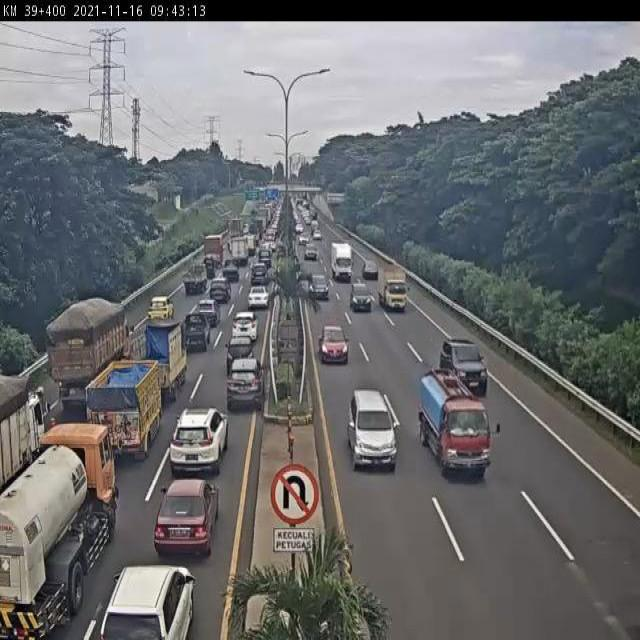car: (97, 562, 197, 640), (152, 476, 219, 560), (346, 388, 401, 477), (166, 405, 228, 472), (439, 338, 487, 398), (226, 358, 265, 413), (317, 324, 350, 365), (180, 310, 211, 350), (225, 333, 255, 371), (231, 309, 260, 342), (182, 262, 209, 294), (207, 276, 233, 304), (194, 299, 221, 325), (146, 296, 174, 321), (350, 283, 373, 312), (246, 283, 271, 309), (308, 274, 329, 302), (220, 255, 242, 281), (249, 261, 270, 287)
small truck: (410, 369, 499, 482), (377, 262, 407, 310)
truck-l-: (0, 417, 124, 640), (46, 298, 133, 414), (0, 369, 51, 491)
truck-m-: (87, 360, 163, 460), (128, 322, 193, 407)
